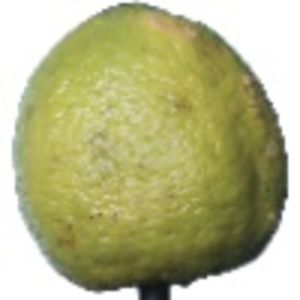limão: (12, 1, 288, 300)
